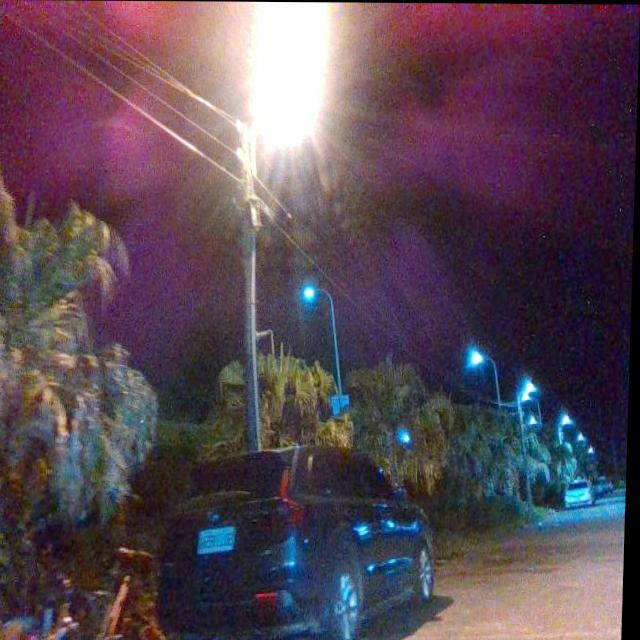pollute: (0, 549, 162, 638)
